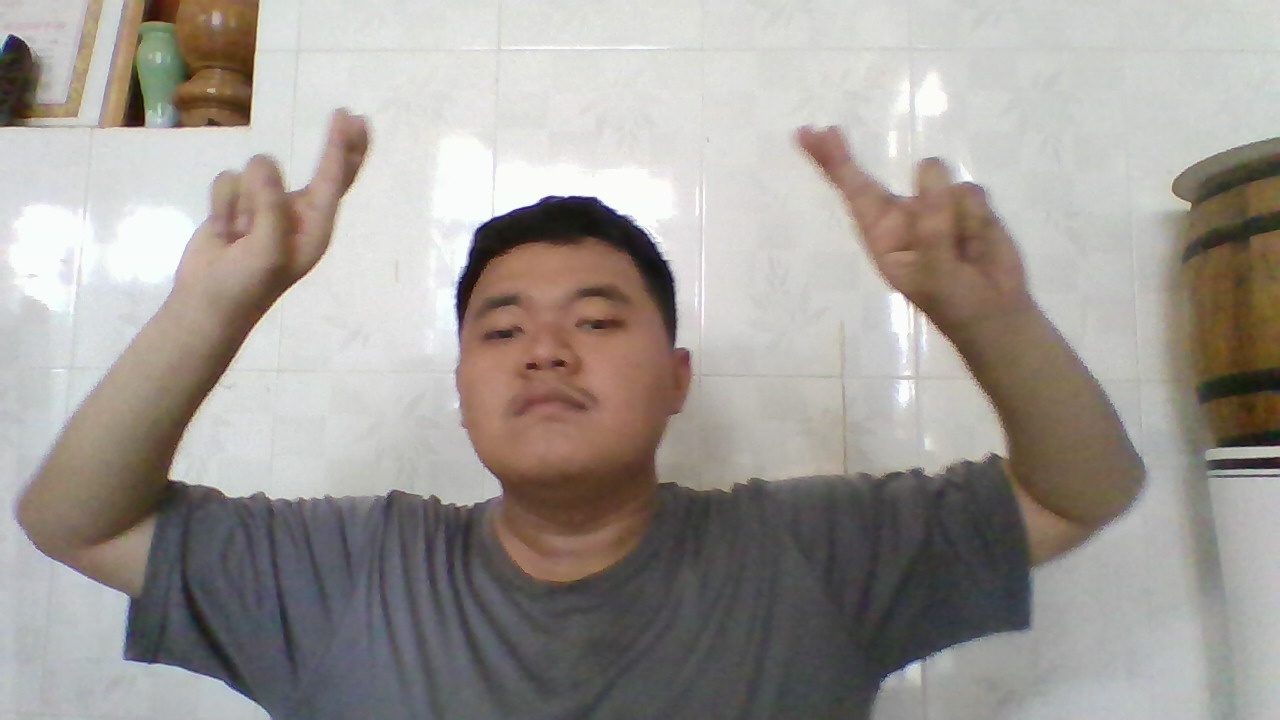R: (800, 115, 1018, 326), (180, 102, 369, 323)
